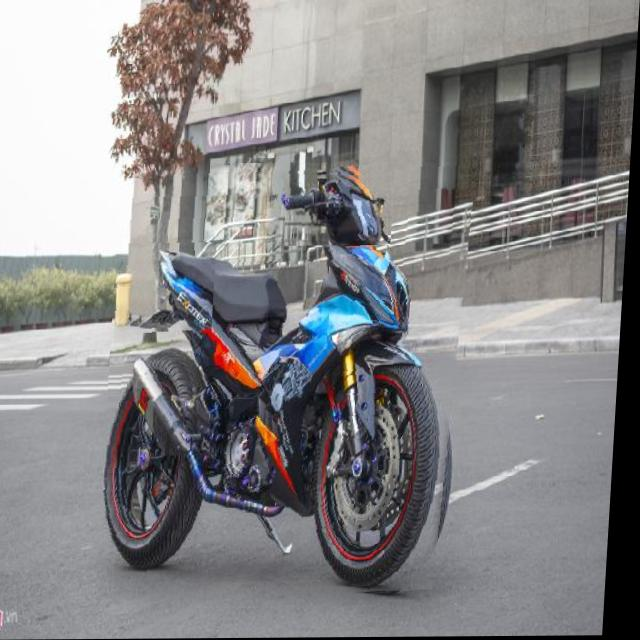All: (103, 163, 479, 601)
Head: (284, 174, 397, 246)
Tail: (138, 243, 220, 333)
